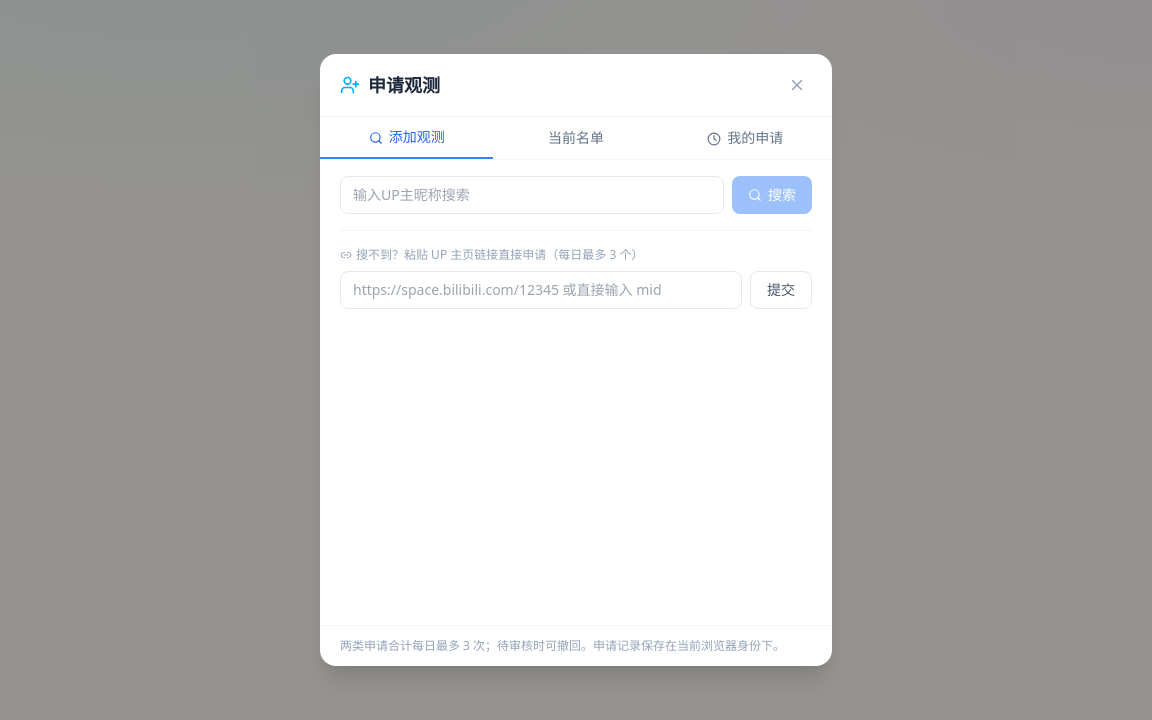
切换标签页时保持同一个固定高度窗体
Click the button "当前名单".
click(576, 138)  # box x1=493 y1=117 x2=659 y2=159
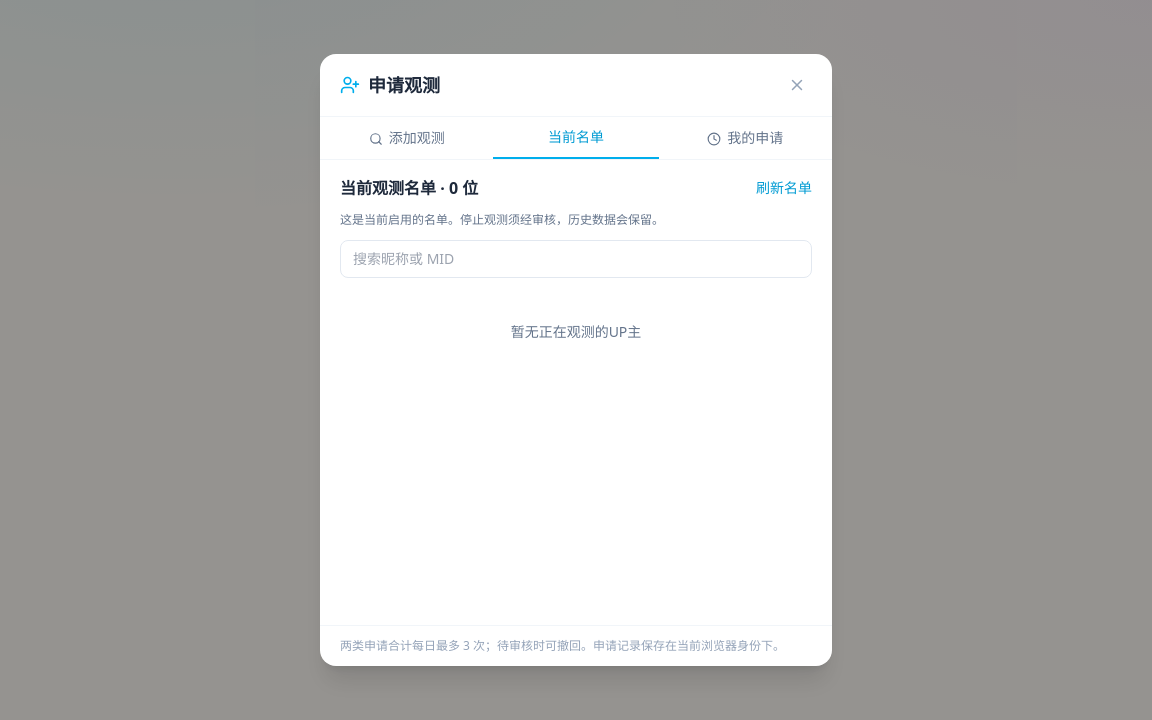
Now the heading "当前观测名单 · 0 位" is shown, box x1=340 y1=176 x2=478 y2=200
